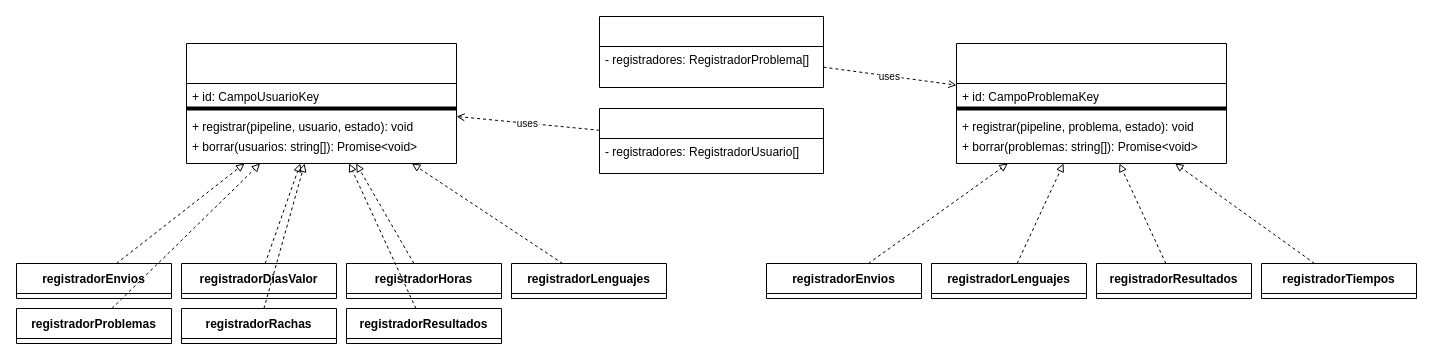
Some shapes in this 1433 by 360 pixel diagram are drawn without their labels. The shapes that lost their labels are listed below. From the top down, each one's box as (x1, y1, x2, y2) in pixels, then its label:
(598, 16, 824, 88): ProblemaService
(186, 42, 456, 164): «interface» RegistradorUsuario
(956, 42, 1226, 164): «interface» RegistradorProblema
(598, 108, 824, 174): UsuarioService
